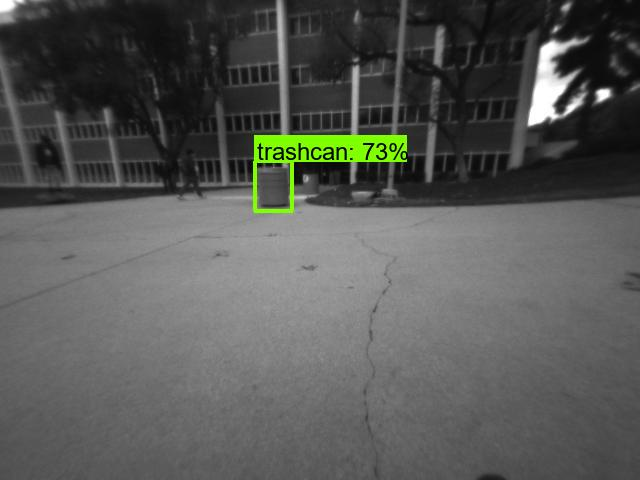trashcan: (256, 168, 289, 208)
